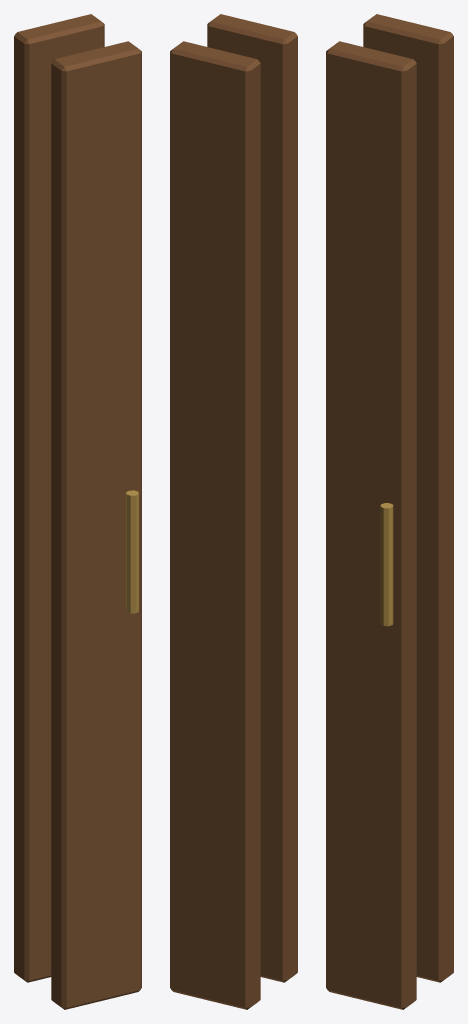
The model's file is lib_door_leaves.glb.
3 views of the same model, side by side, from view 1: azimuth 30°, elevation 25°; view 2: azimuth 150°, elevation 25°; view 3: azimuth 330°, elevation 25° (orthographic).
Visible parts, largest first — view 1: leaves; view 2: leaves; view 3: leaves.
Boxes of the visible parts, bbox=[...] form: leaves: bbox=[14, 14, 141, 1009]; leaves: bbox=[170, 14, 297, 1009]; leaves: bbox=[326, 14, 453, 1009].
Size of the model in its own units: 0.25 by 2.8 by 0.3105.
